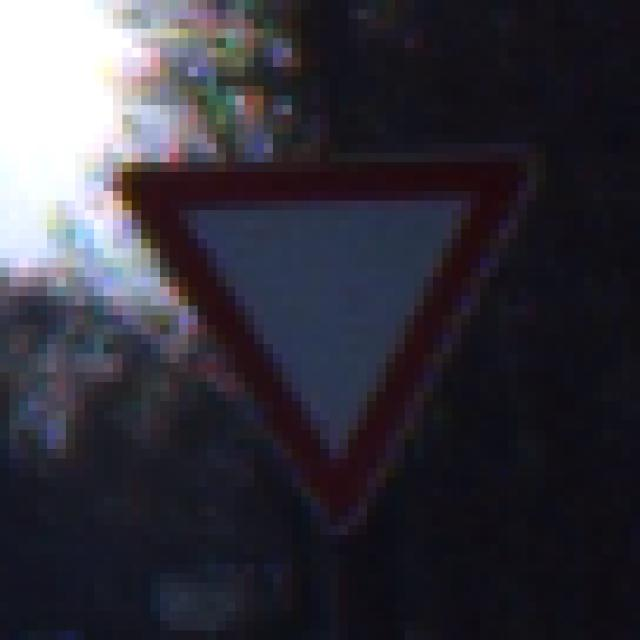Give Way: (67, 58, 584, 584)
